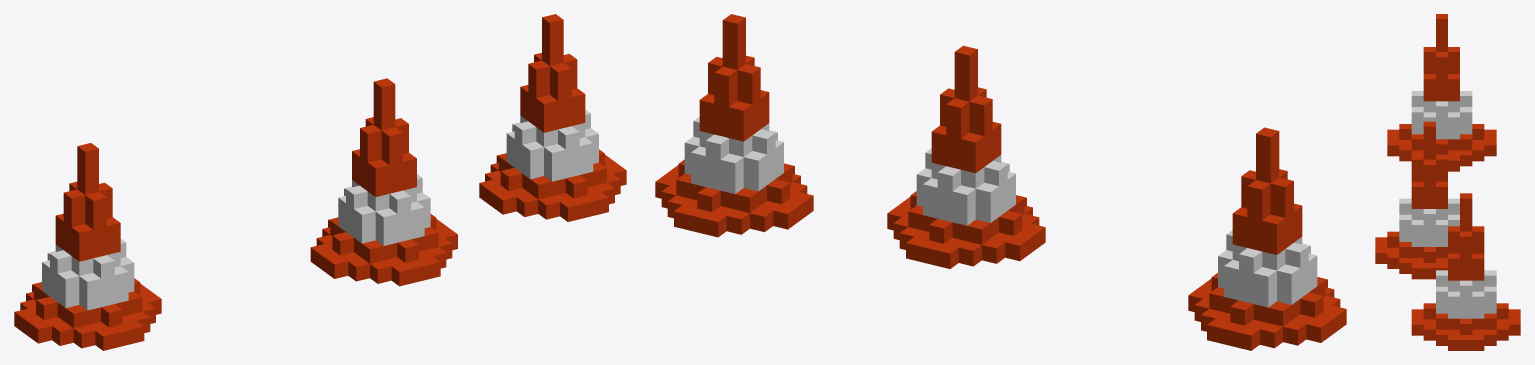
File: cones.glb
The picture shows the model from 3 angles, left to right: view 1: azimuth 30°, elevation 25°; view 2: azimuth 150°, elevation 25°; view 3: azimuth 270°, elevation 25°; orthographic projection. The views are drawn at different scales.
Visible parts, largest first — view 1: ObjObject; view 2: ObjObject; view 3: ObjObject.
Boxes of the visible parts, left/top/right/bottom form: ObjObject: left=14, top=14, right=626, bottom=350; ObjObject: left=655, top=14, right=1346, bottom=350; ObjObject: left=1375, top=14, right=1520, bottom=350.
Size of the model in its own units: 4.4 by 1.2 by 1.2.
Materials: 1 (1 with a texture image).
